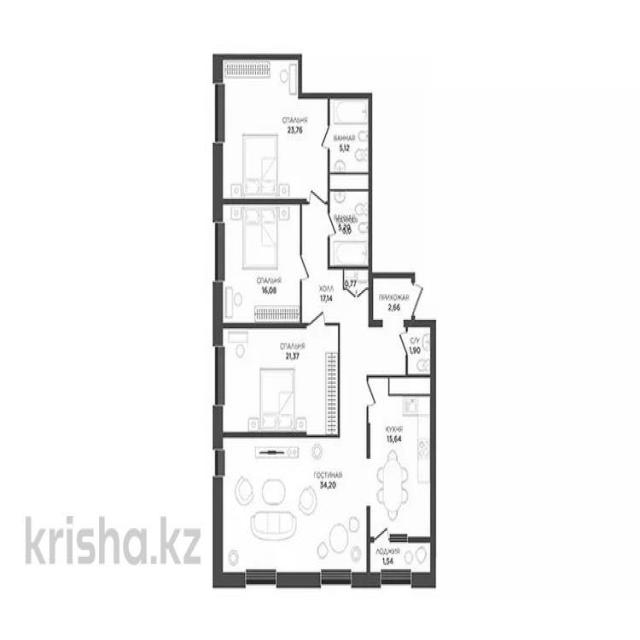bathroom: (328, 192, 370, 266), (328, 97, 369, 172)
hallway: (303, 202, 411, 436)
kitchen: (368, 393, 433, 540), (370, 541, 432, 576), (407, 327, 432, 377)
living_room: (219, 439, 368, 577), (220, 56, 330, 199), (220, 328, 340, 437), (220, 203, 301, 324)
